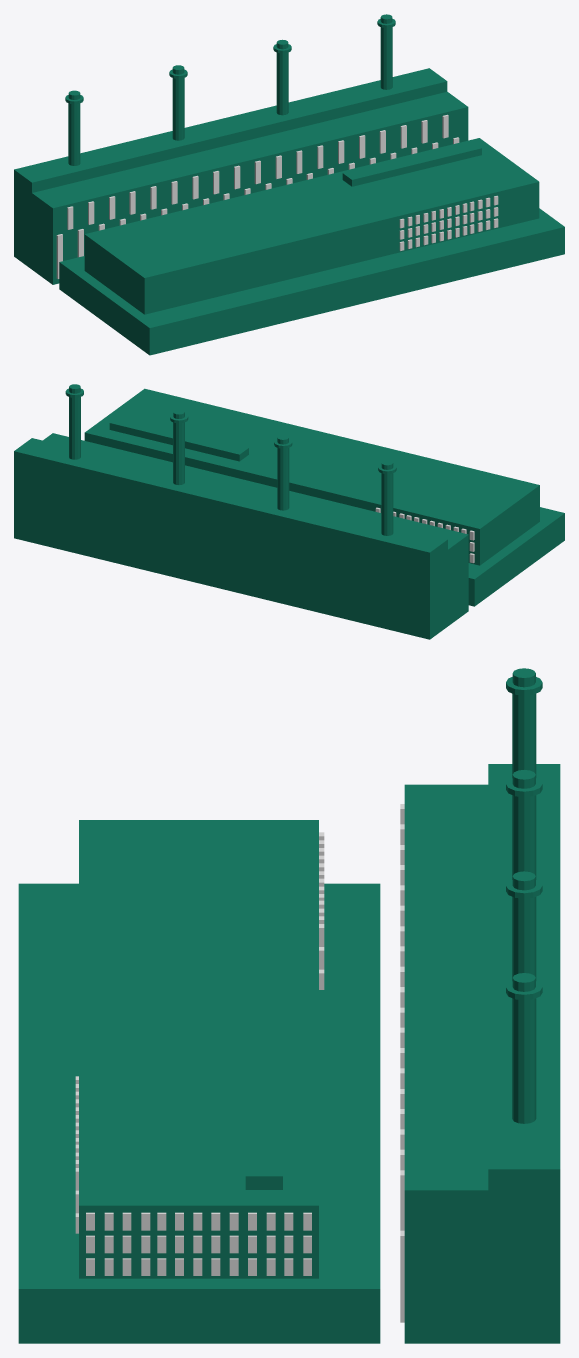
Rendered from factory.fbx.
3 renders of one model, top to bottom at view 1: azimuth 30°, elevation 25°; view 2: azimuth 150°, elevation 25°; view 3: azimuth 270°, elevation 25°, orthographic. The views are drawn at different scales.
Parts seen in each view (by area): view 1: Cube.001, Cube, Cube.040, Cube.004, Cylinder.003, Cylinder, Cylinder.002, Cylinder.001; view 2: Cube, Cube.001, Cylinder.002, Cylinder.003, Cylinder, Cylinder.001, Cube.005; view 3: Cube.001, Cube, Cube.018, Cylinder, Cylinder.001, Cylinder.002, Cylinder.003, Cube.040, Cube.005.
Boxes of the visible parts, bbox=[...] form: Cube.001: bbox=[59, 138, 564, 355]; Cube: bbox=[14, 68, 468, 284]; Cube.040: bbox=[56, 114, 459, 278]; Cube.004: bbox=[399, 195, 498, 250]; Cylinder.003: bbox=[169, 65, 187, 140]; Cylinder: bbox=[377, 14, 395, 89]; Cylinder.002: bbox=[65, 90, 83, 165]; Cylinder.001: bbox=[273, 39, 291, 115]; Cube: bbox=[14, 433, 468, 639]; Cube.001: bbox=[84, 388, 564, 606]; Cylinder.002: bbox=[378, 460, 396, 535]; Cylinder.003: bbox=[274, 435, 292, 510]; Cylinder: bbox=[65, 384, 83, 459]; Cylinder.001: bbox=[170, 409, 188, 484]; Cube.005: bbox=[375, 507, 474, 563]; Cube.001: bbox=[18, 820, 380, 1343]; Cube: bbox=[404, 764, 560, 1343]; Cube.018: bbox=[86, 1212, 311, 1275]; Cylinder: bbox=[506, 973, 542, 1123]; Cylinder.001: bbox=[506, 871, 542, 980]; Cylinder.002: bbox=[506, 668, 542, 777]; Cylinder.003: bbox=[506, 770, 542, 879]; Cube.040: bbox=[400, 804, 404, 1322]; Cube.005: bbox=[319, 832, 324, 989].
Bounding box in the file's own units: 799 × 290 × 451.
